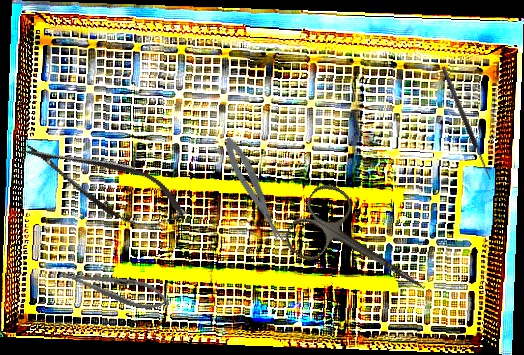Hook Surgical: (440, 63, 499, 182)
Iris Scissors: (279, 177, 445, 323)
Micro Scissor: (14, 123, 196, 245), (219, 133, 288, 248)
Needle Holder: (57, 259, 173, 317)
